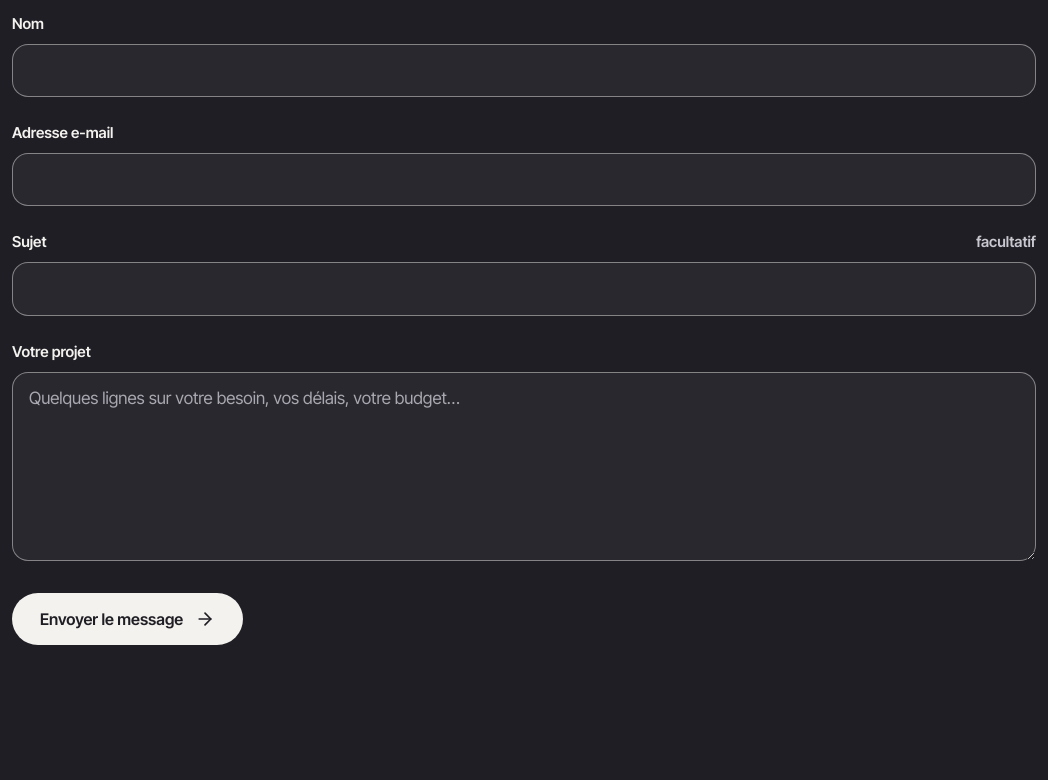
Test: ContactForm › affiche les erreurs près des champs et place le focus sur le premier
The image size is (1048, 780).
Click the button "Envoyer le message": (128, 620) [12, 594, 243, 646]
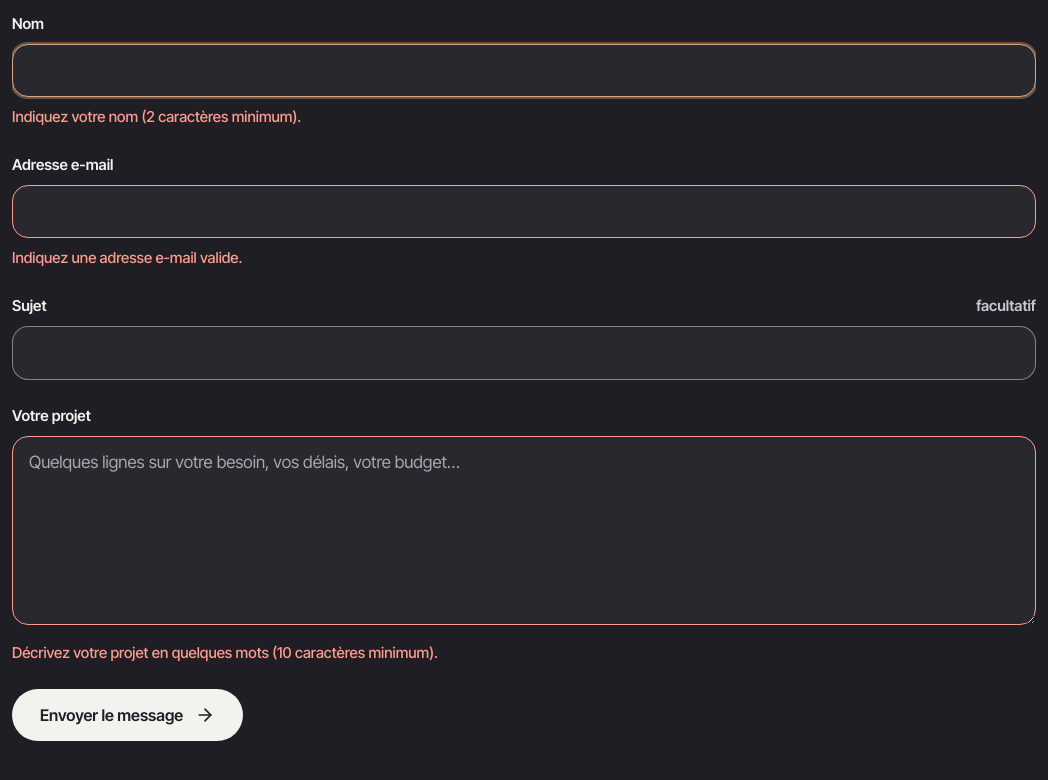
Check: the text "Indiquez votre nom (2 caractères minimum)." is shown, box [12, 107, 301, 126]
